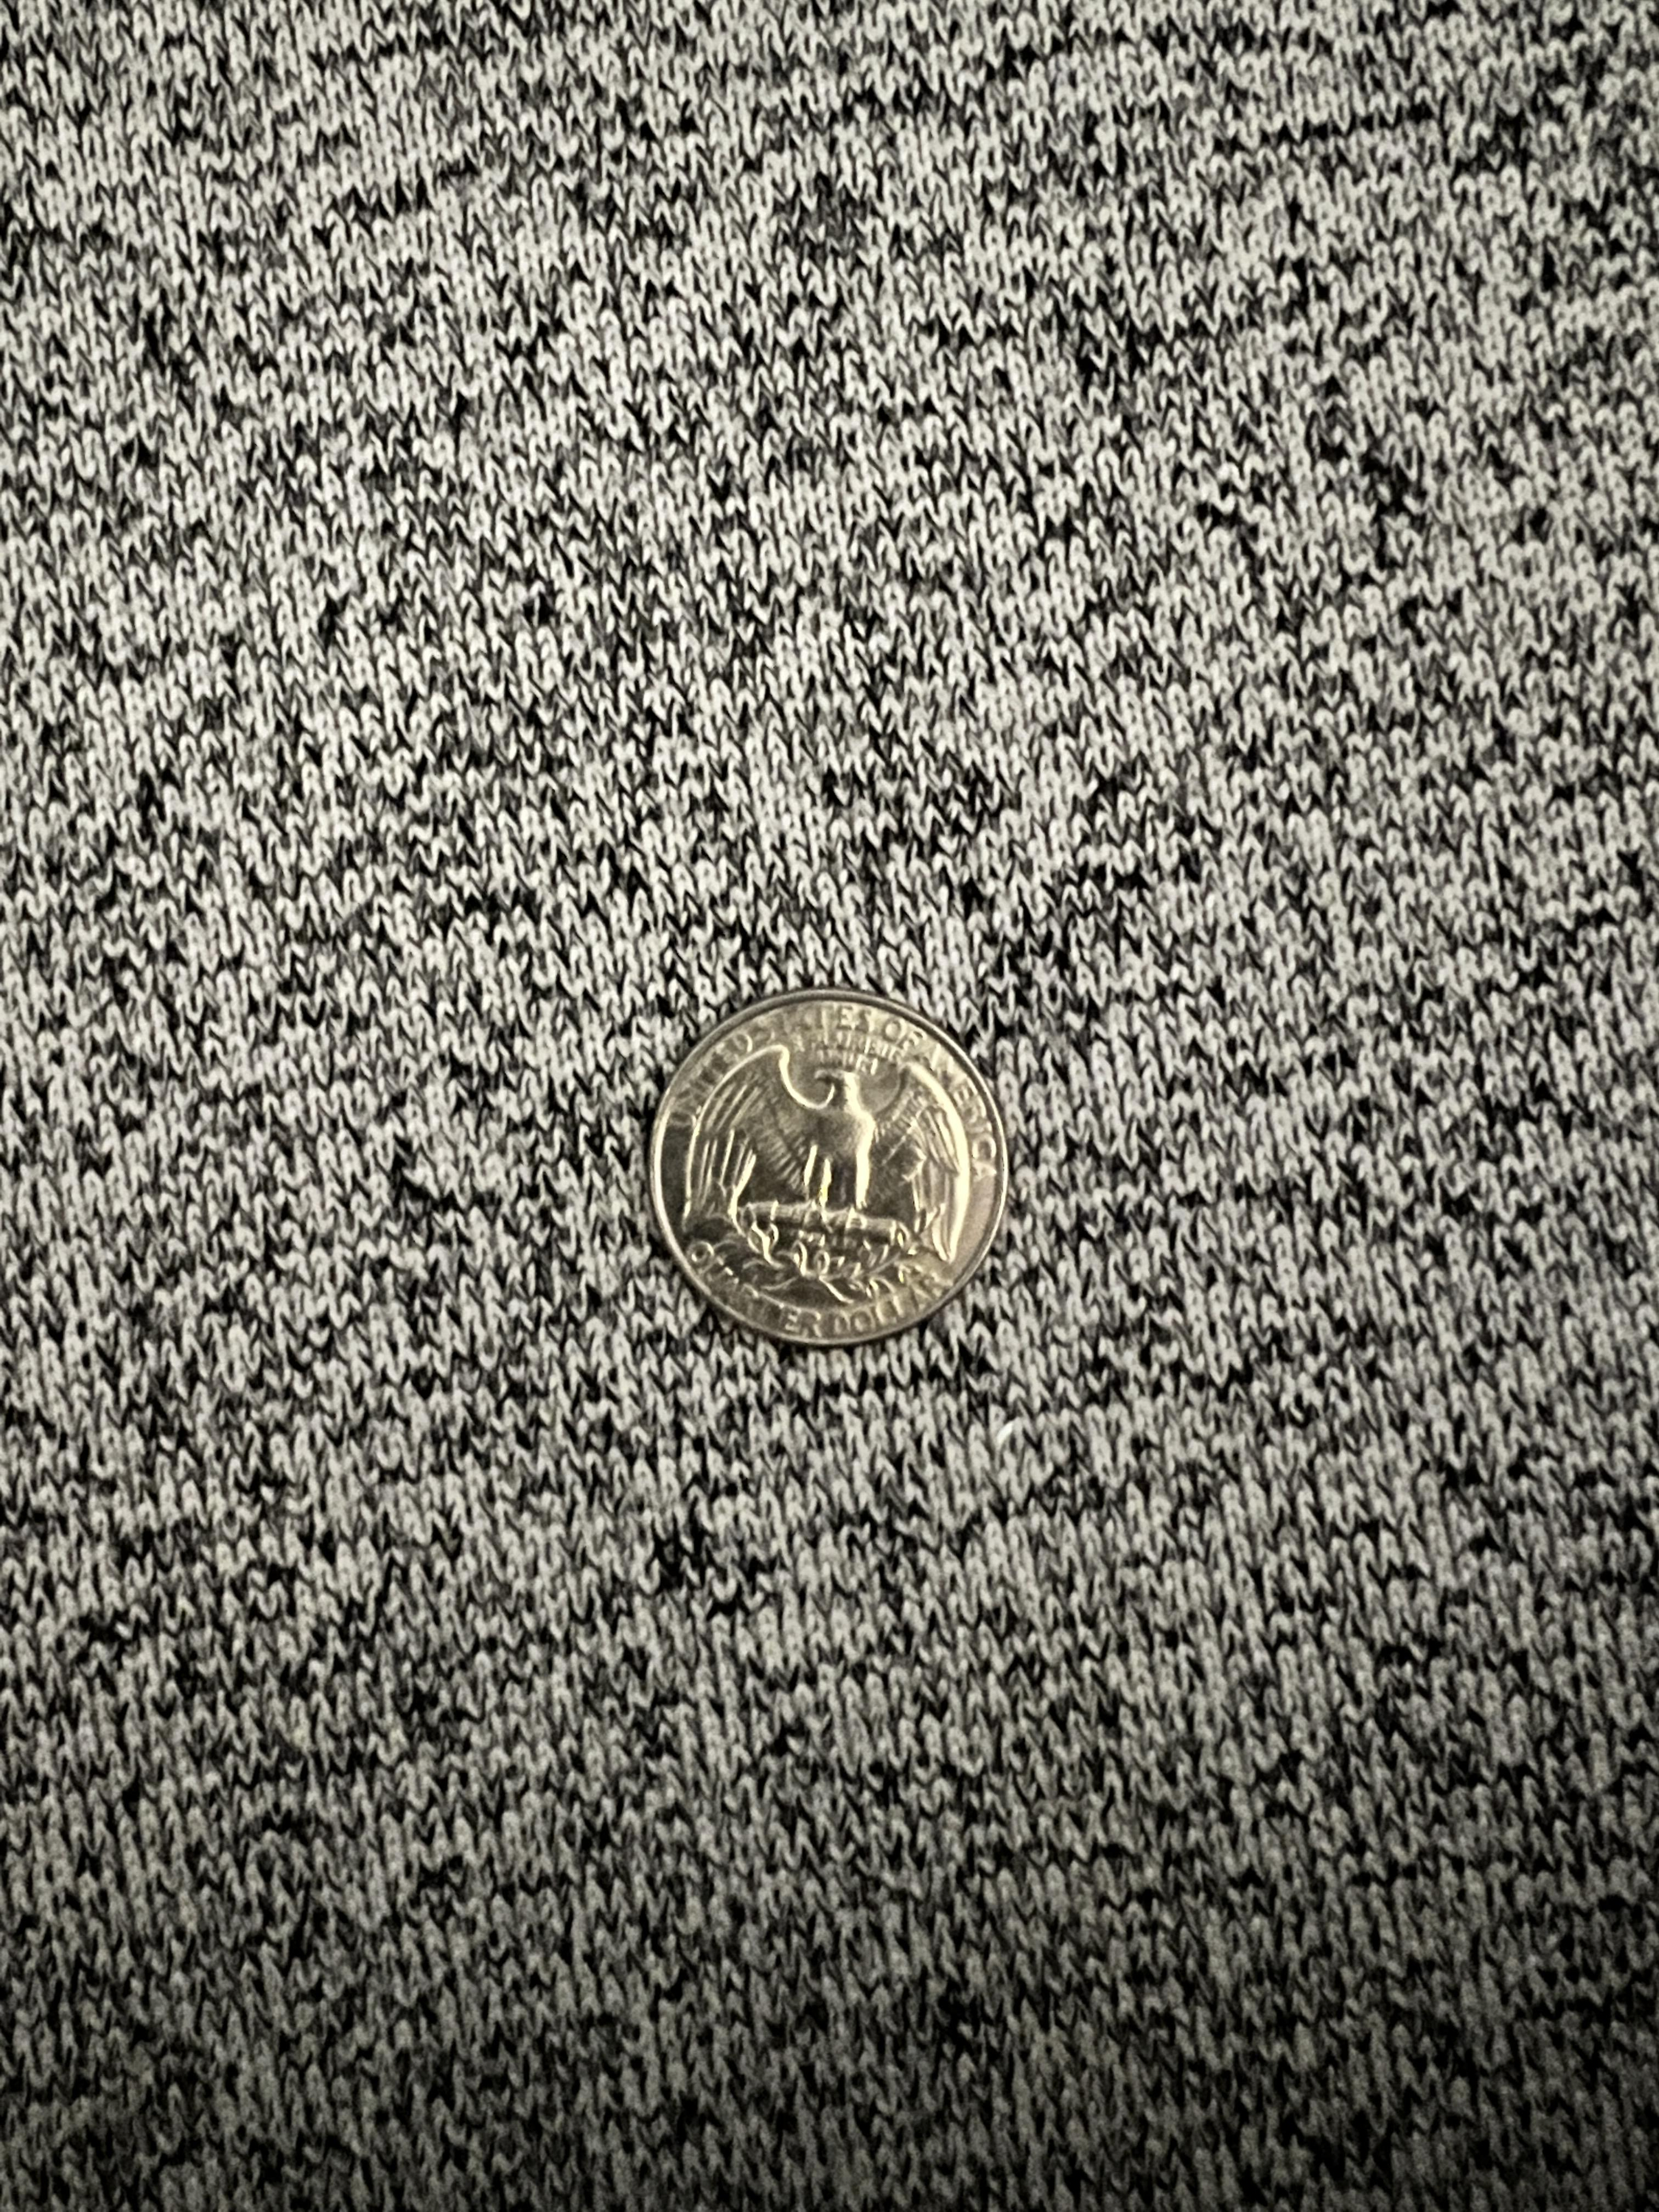Quarter: (643, 968, 1023, 1346)
